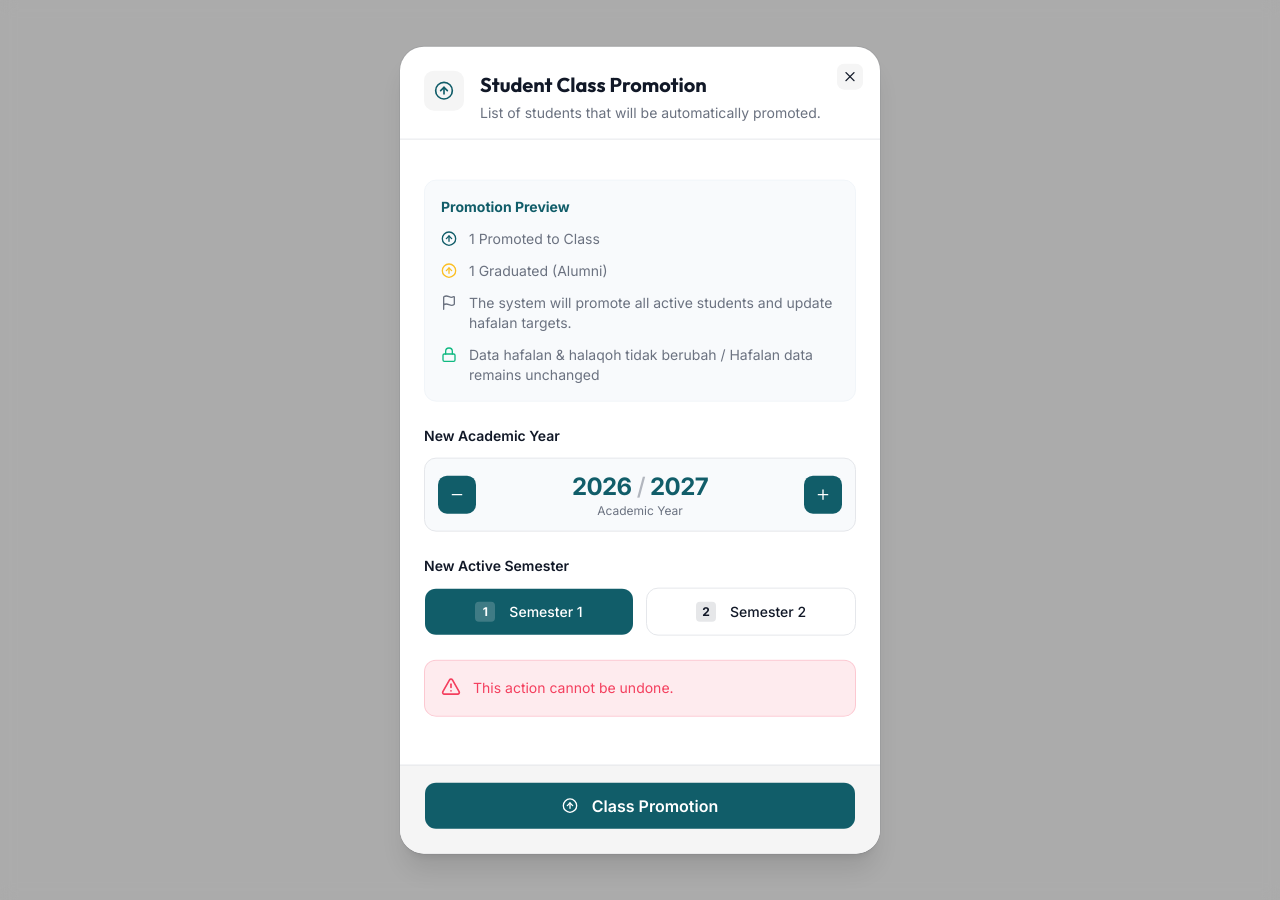
Test: KenaikanKelasDialog Component › should navigate to step 2 confirm preview when Process button is clicked
Click the button "Class Promotion".
click(640, 805)  # box [424,781,856,829]
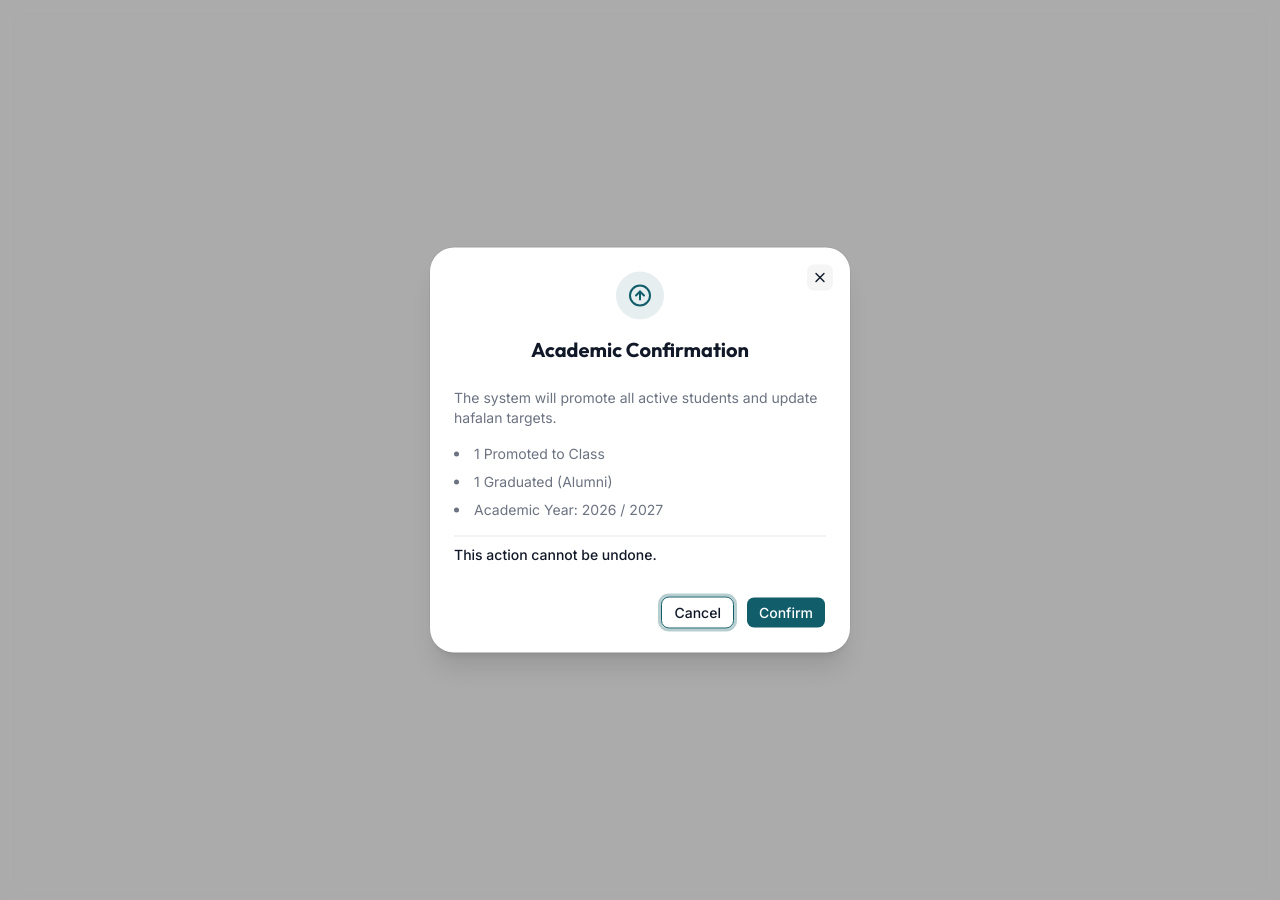
expect the heading "Academic Confirmation" is shown: met, box [531,336,749,364]
